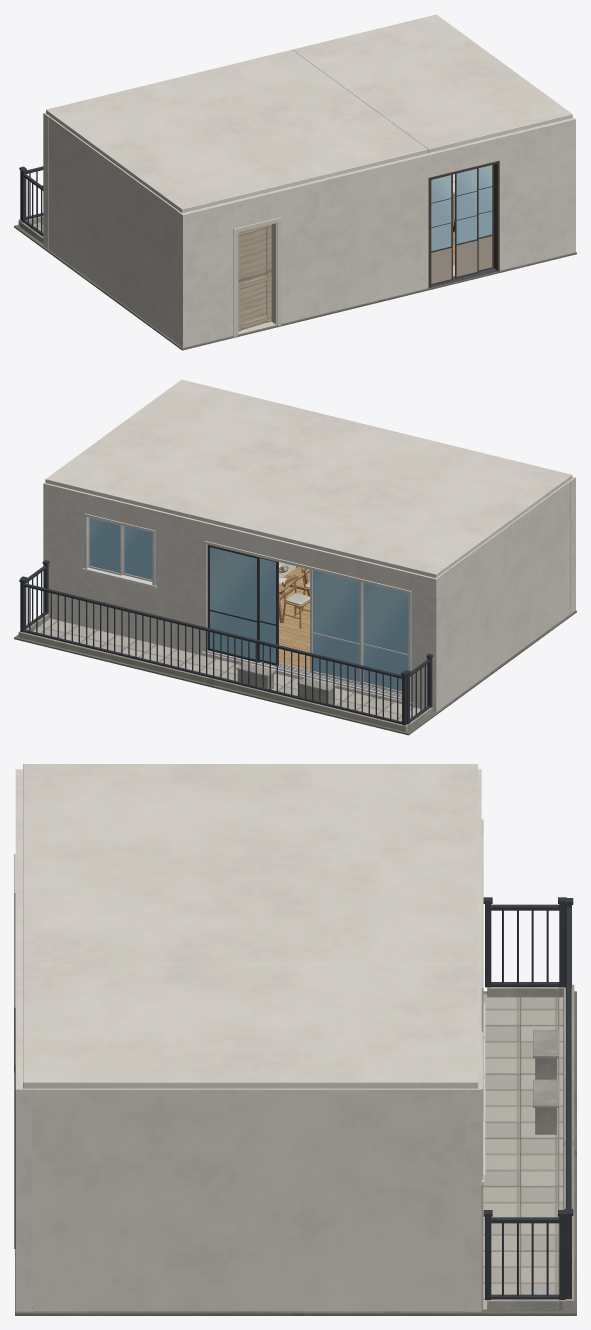
Rendered from kr_modern_apartment_living-mobile.glb.
3 renders of one model, top to bottom at view 1: azimuth 30°, elevation 25°; view 2: azimuth 150°, elevation 25°; view 3: azimuth 270°, elevation 25°, orthographic. The views are drawn at different scales.
Parts seen in each view (by area): view 1: BG_Cutaway_Front, BG_Ceiling, BG_Shell_Fixed; view 2: BG_Shell_Fixed, BG_Ceiling, BG_Cutaway_Front, BG_Furnishings; view 3: BG_Ceiling, BG_Shell_Fixed, BG_Cutaway_Front.
Part boxes in pixels (left/top/right/bottom): BG_Cutaway_Front: left=48, top=116, right=575, bottom=347; BG_Ceiling: left=46, top=14, right=572, bottom=212; BG_Shell_Fixed: left=14, top=112, right=576, bottom=350; BG_Shell_Fixed: left=14, top=482, right=576, bottom=735; BG_Ceiling: left=45, top=379, right=572, bottom=577; BG_Cutaway_Front: left=440, top=476, right=575, bottom=707; BG_Furnishings: left=279, top=562, right=309, bottom=628; BG_Ceiling: left=23, top=764, right=478, bottom=1088; BG_Shell_Fixed: left=15, top=769, right=576, bottom=1315; BG_Cutaway_Front: left=14, top=769, right=33, bottom=1311.
Bounding box in the file's own units: 8.4 × 2.82 × 6.21.
2 materials, 2 textured.
